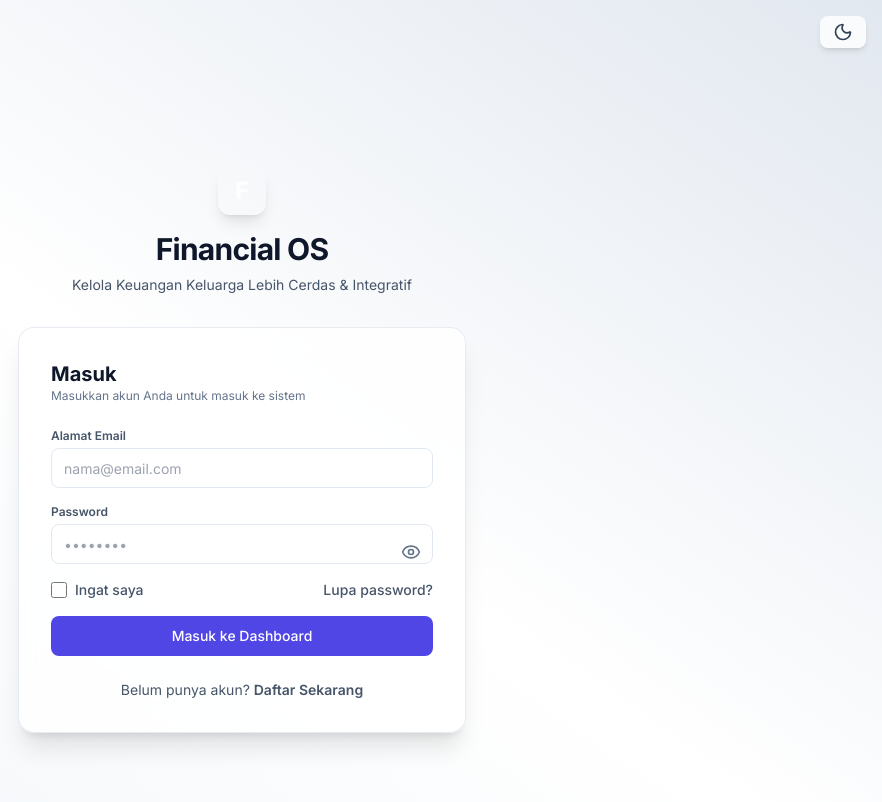
Test: LoginPage component › submits credentials successfully and redirects
The image size is (882, 802).
Type "e2e@example.com" into the field with placeholder "nama@email.com" at (242, 468), box [51,448,433,488]
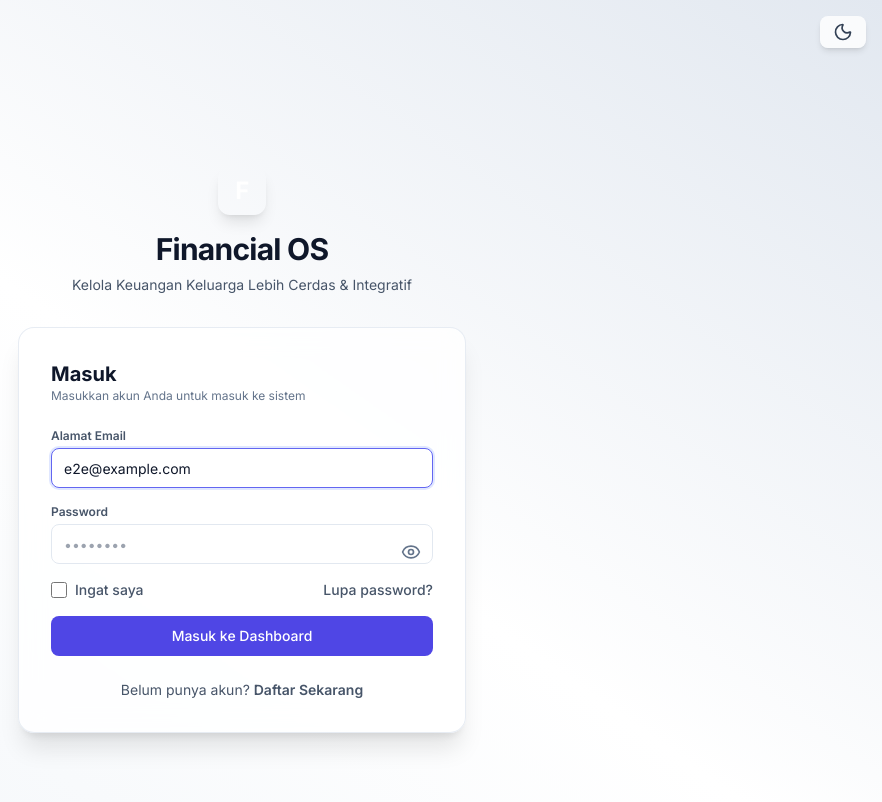
Type "securePassword123" into the password field with placeholder "••••••••" at (242, 544), box [51,524,433,564]
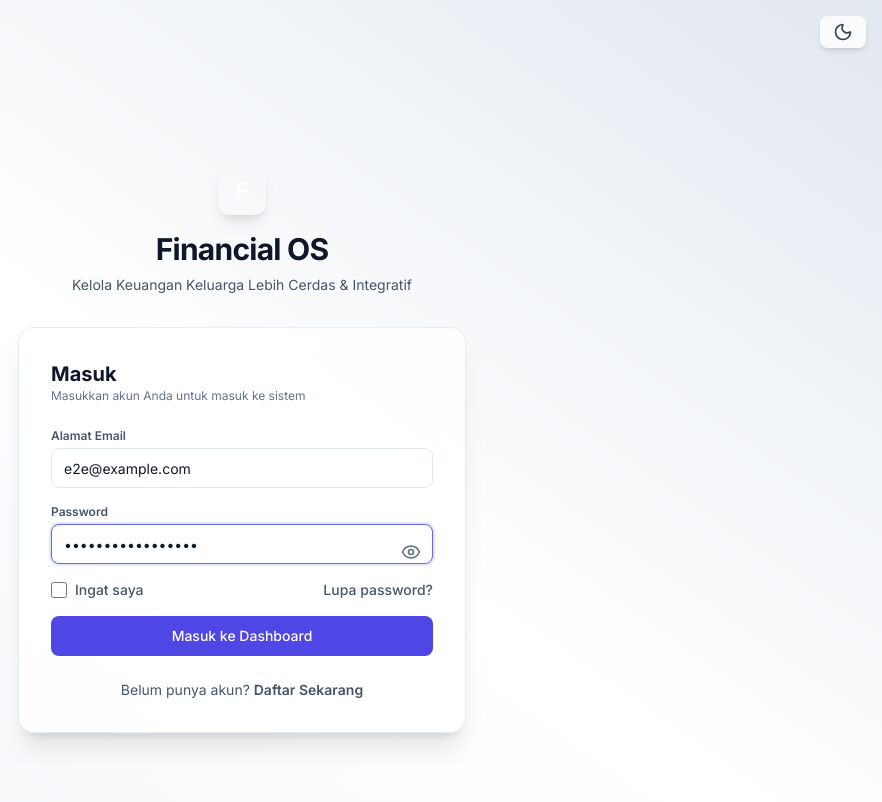
Click the button "Masuk ke Dashboard" at (242, 636), box [51,616,433,656]
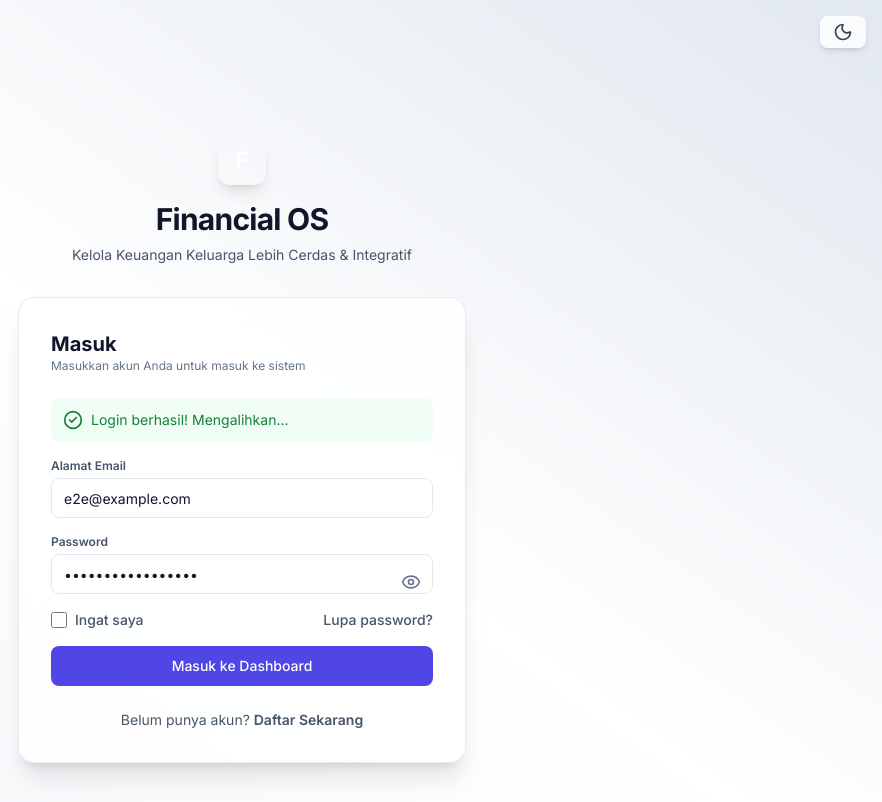
Now the text "Login berhasil! Mengalihkan..." is shown, box [91,410,288,430]
